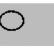no answer: (0, 8, 25, 32)
